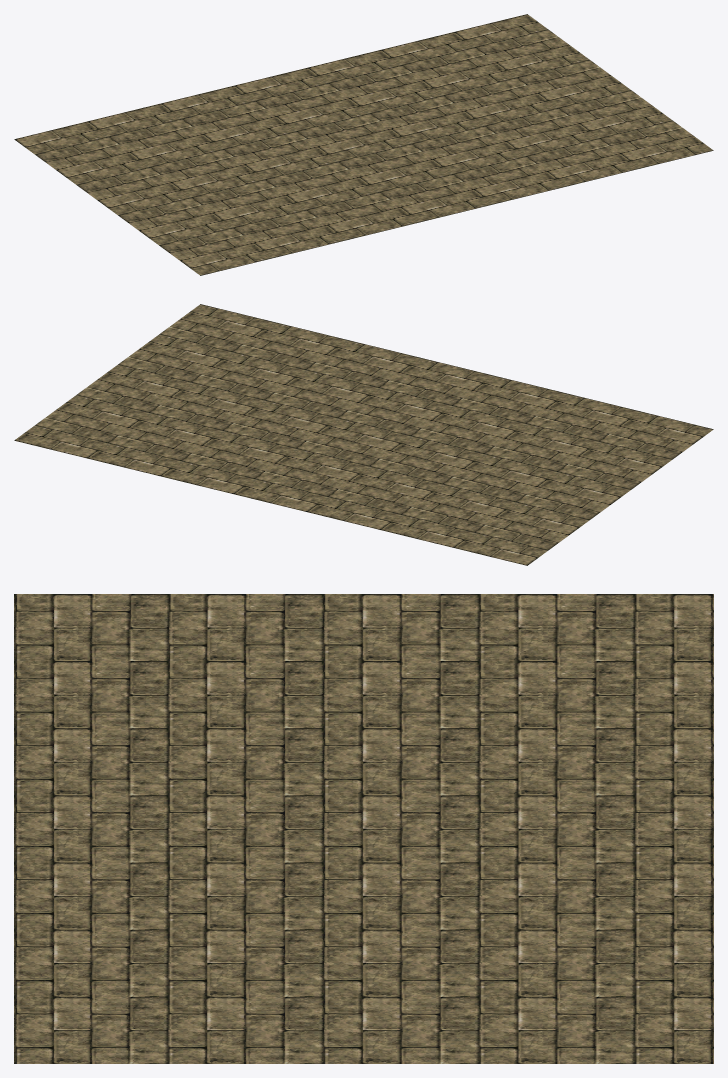
Rendered from OVERHILL_A_01_OBJECT112.fbx.
3 views of the same model, one above another, from view 1: azimuth 30°, elevation 25°; view 2: azimuth 150°, elevation 25°; view 3: azimuth 270°, elevation 25° (orthographic). The views are drawn at different scales.
Parts seen in each view (by area): view 1: OVERHILL_A_01_OBJECT112; view 2: OVERHILL_A_01_OBJECT112; view 3: OVERHILL_A_01_OBJECT112.
Part boxes in pixels (x1,y1,x2,y2): OVERHILL_A_01_OBJECT112: (14, 14, 713, 275); OVERHILL_A_01_OBJECT112: (14, 304, 713, 565); OVERHILL_A_01_OBJECT112: (14, 594, 713, 1063).
Size of the model in its own units: 233927 by 0.0972 by 147275.
Materials: 1 (1 with a texture image).
